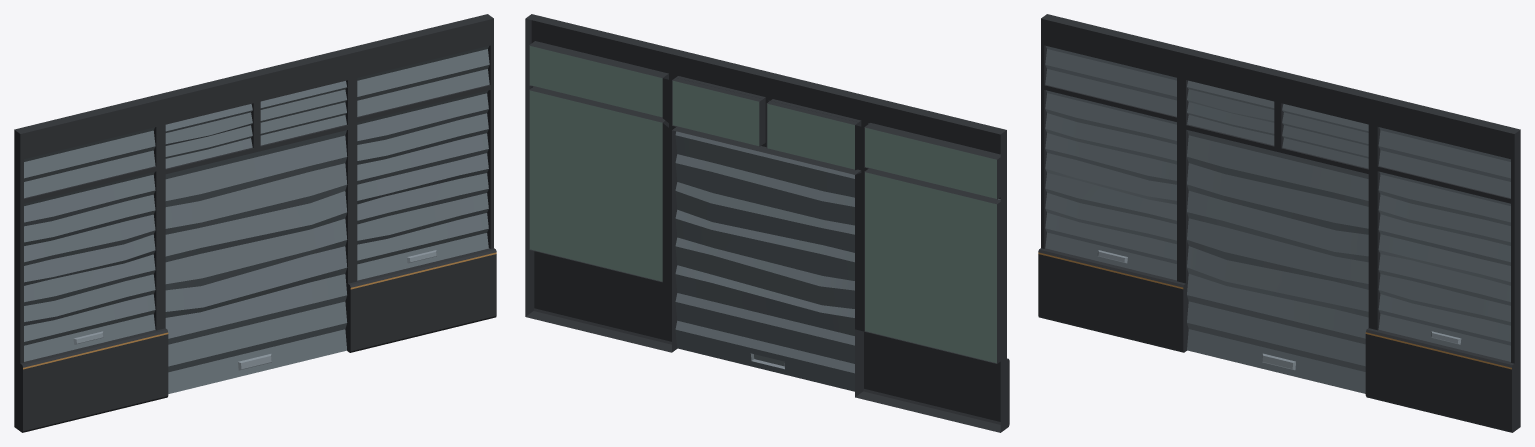
The model's file is Wall_Glass_DoorFrame_01.glb.
3 renders of one model, left to right at view 1: azimuth 30°, elevation 25°; view 2: azimuth 150°, elevation 25°; view 3: azimuth 330°, elevation 25°, orthographic.
Parts seen in each view (by area): view 1: SM_Env_Wall_Glass_DoorFrame_Panels_01, SM_Env_Wall_Glass_DoorFrame_01; view 2: SM_Env_Wall_Glass_DoorFrame_Glass_01, SM_Env_Wall_Glass_DoorFrame_01, SM_Env_Wall_Glass_DoorFrame_Panels_01; view 3: SM_Env_Wall_Glass_DoorFrame_Panels_01, SM_Env_Wall_Glass_DoorFrame_01.
Part boxes in pixels (x1,y1,x2,y2): SM_Env_Wall_Glass_DoorFrame_Panels_01: (24,46,489,393); SM_Env_Wall_Glass_DoorFrame_01: (14,14,496,432); SM_Env_Wall_Glass_DoorFrame_Glass_01: (529,46,996,363); SM_Env_Wall_Glass_DoorFrame_01: (525,14,1009,432); SM_Env_Wall_Glass_DoorFrame_Panels_01: (675,78,1000,391); SM_Env_Wall_Glass_DoorFrame_Panels_01: (1045,46,1510,393); SM_Env_Wall_Glass_DoorFrame_01: (1038,14,1520,432).
Bounding box in the file's own units: 5 × 3 × 0.1636.
2 materials, 1 textured.
